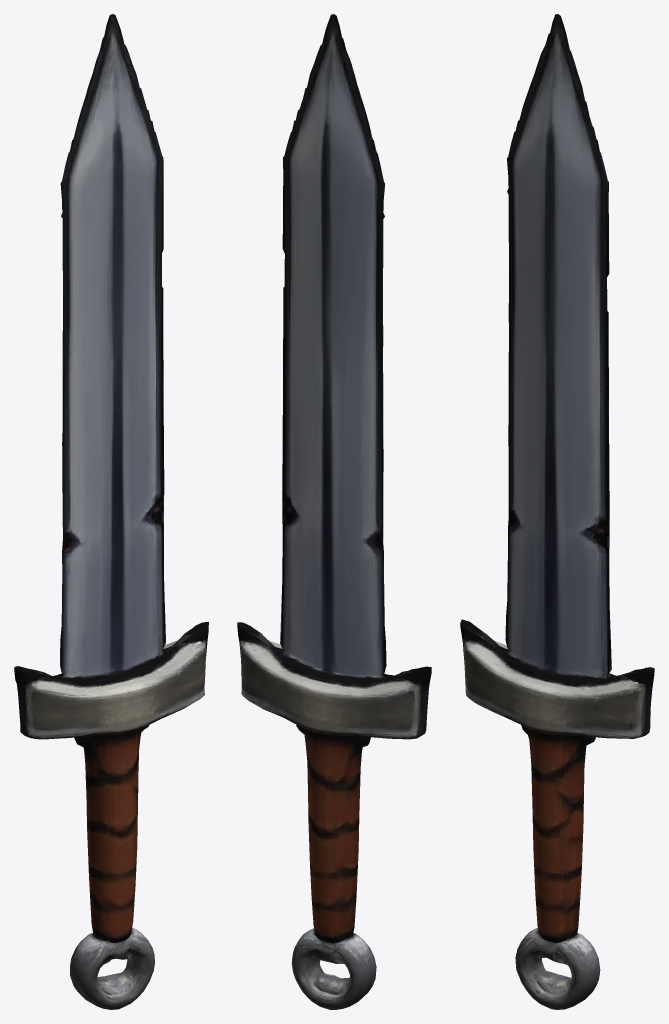
Rendered from short_sword.glb.
3 renders of one model, left to right at view 1: azimuth 30°, elevation 25°; view 2: azimuth 150°, elevation 25°; view 3: azimuth 330°, elevation 25°, orthographic.
Visible parts, largest first — view 1: world; view 2: world; view 3: world.
Part boxes in pixels (x1,y1,x2,y2): world: [14, 14, 208, 1009]; world: [237, 14, 431, 1009]; world: [460, 14, 654, 1009].
Bounding box in the file's own units: 0.1839 × 0.9 × 0.0633.
1 material, 1 textured.
